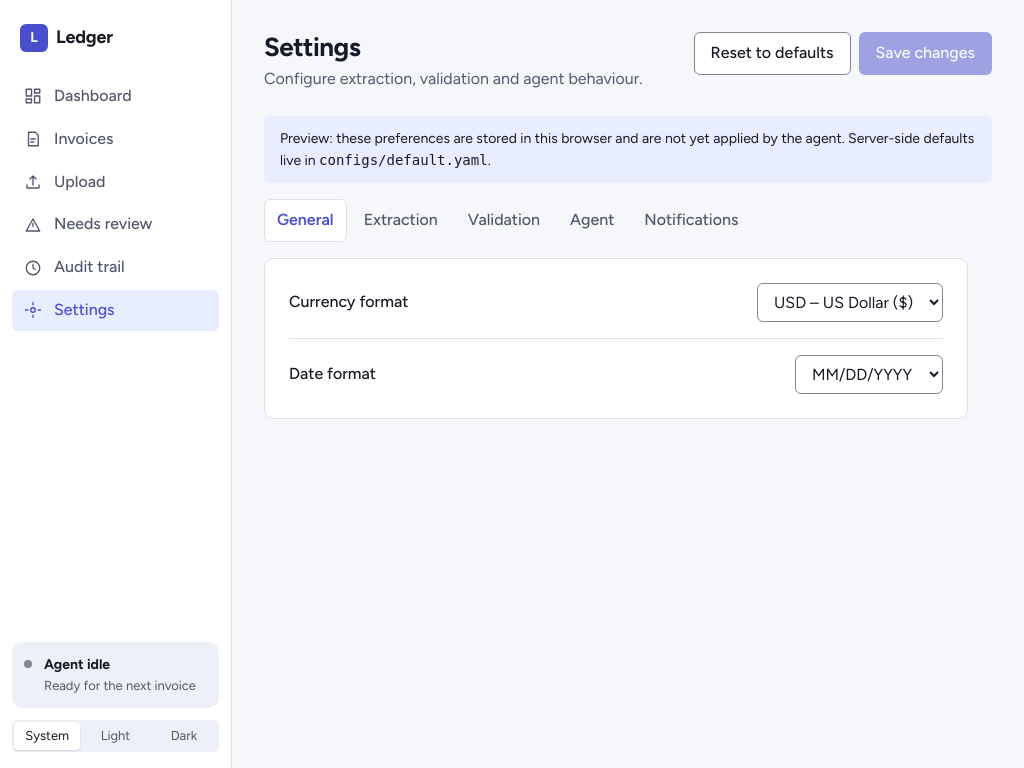
Test: SettingsView › does not crash when saving is blocked
The width and height of the screenshot is (1024, 768).
Click the tab "Notifications" at (691, 221), box [631, 199, 751, 242]
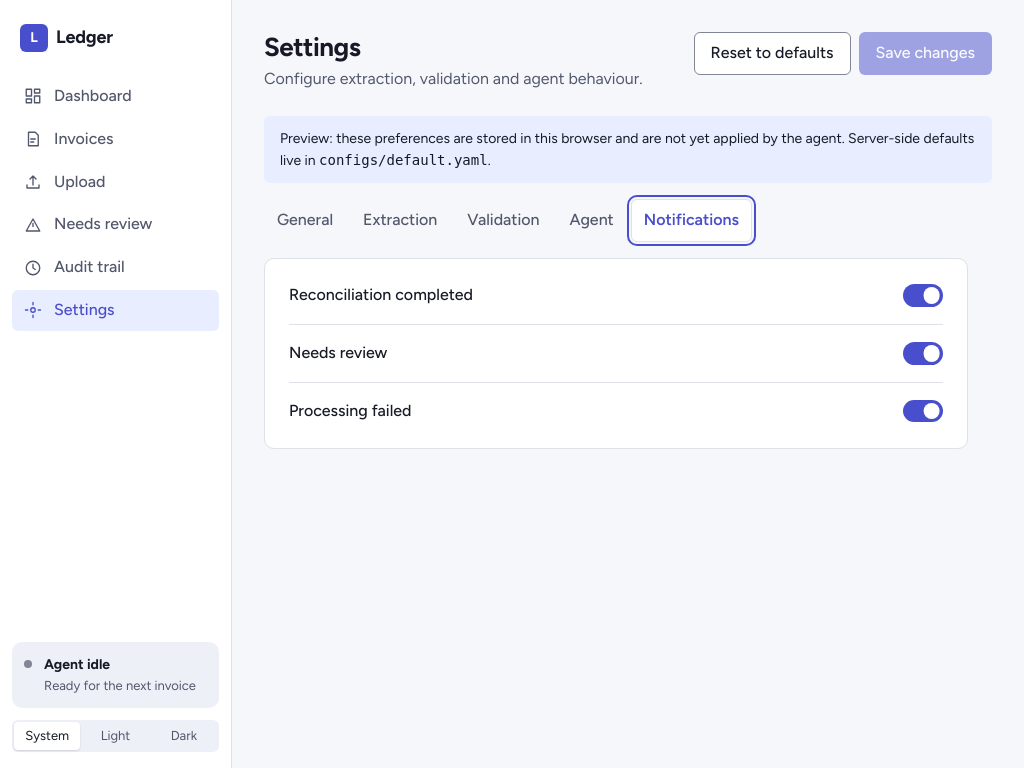
Click the switch named "Processing failed" at (923, 411), box [903, 400, 943, 422]
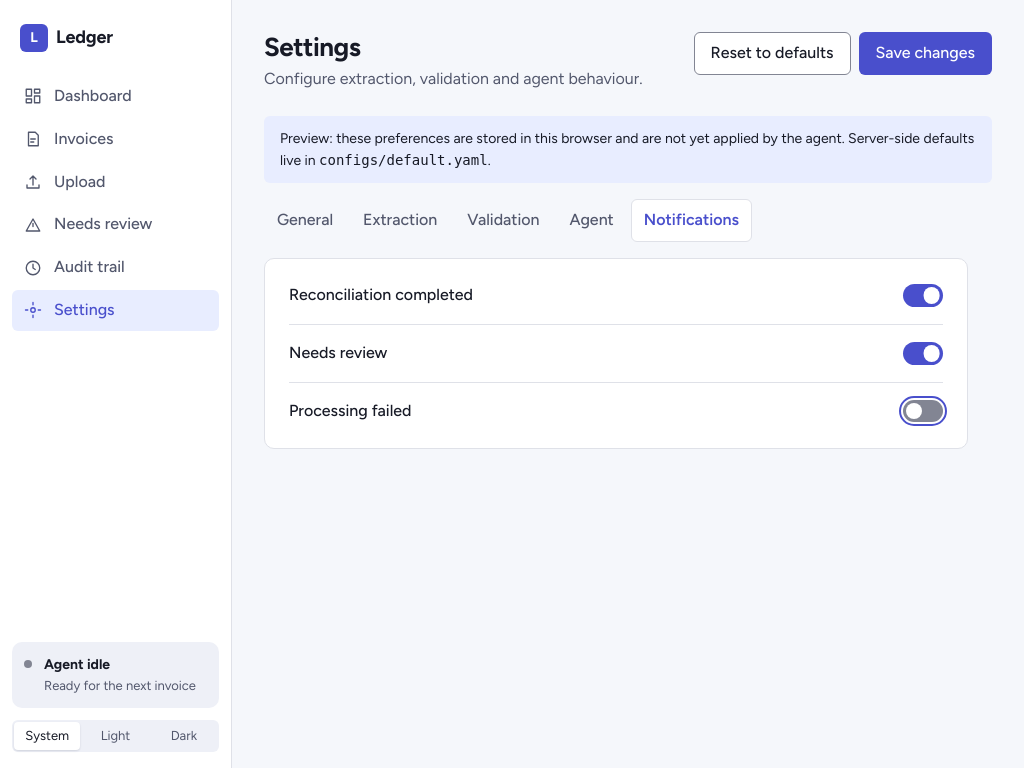
Click the button "Save changes" at (925, 53), box [859, 32, 992, 75]
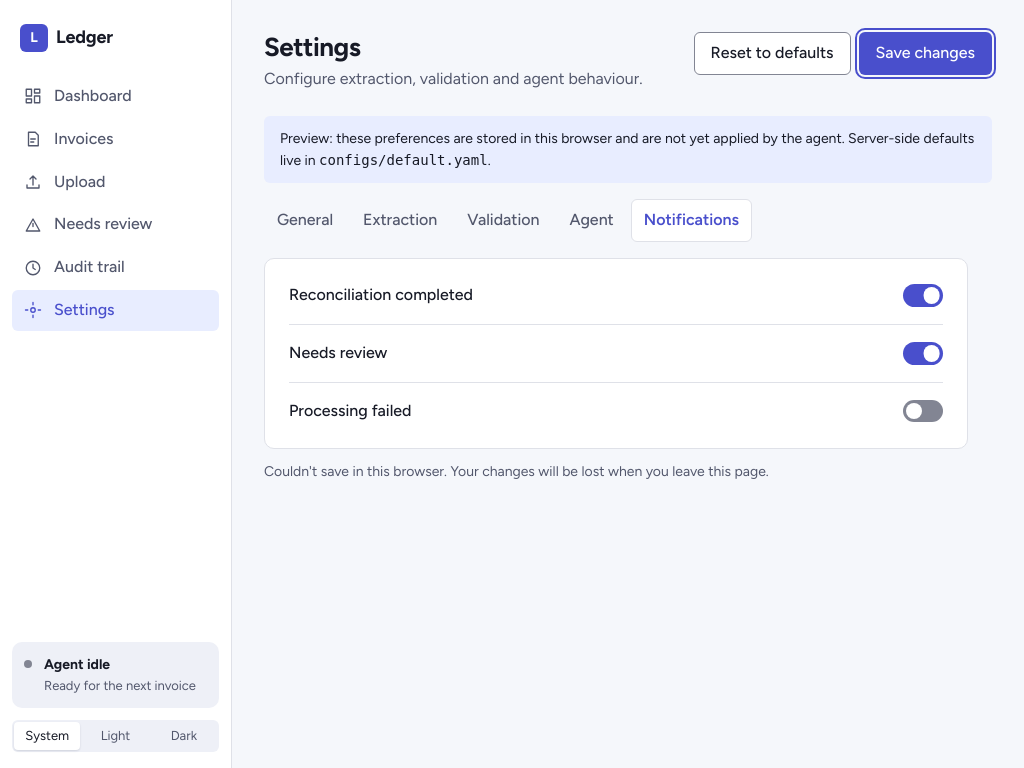
Expected: the heading "Settings" is shown, [264, 31, 360, 63]
Result: the button "Save changes" is enabled at [859, 32, 992, 75]
Result: the message shows "Couldn't save in this browser. Your changes will be lost when you leave this page." at [264, 462, 769, 480]
